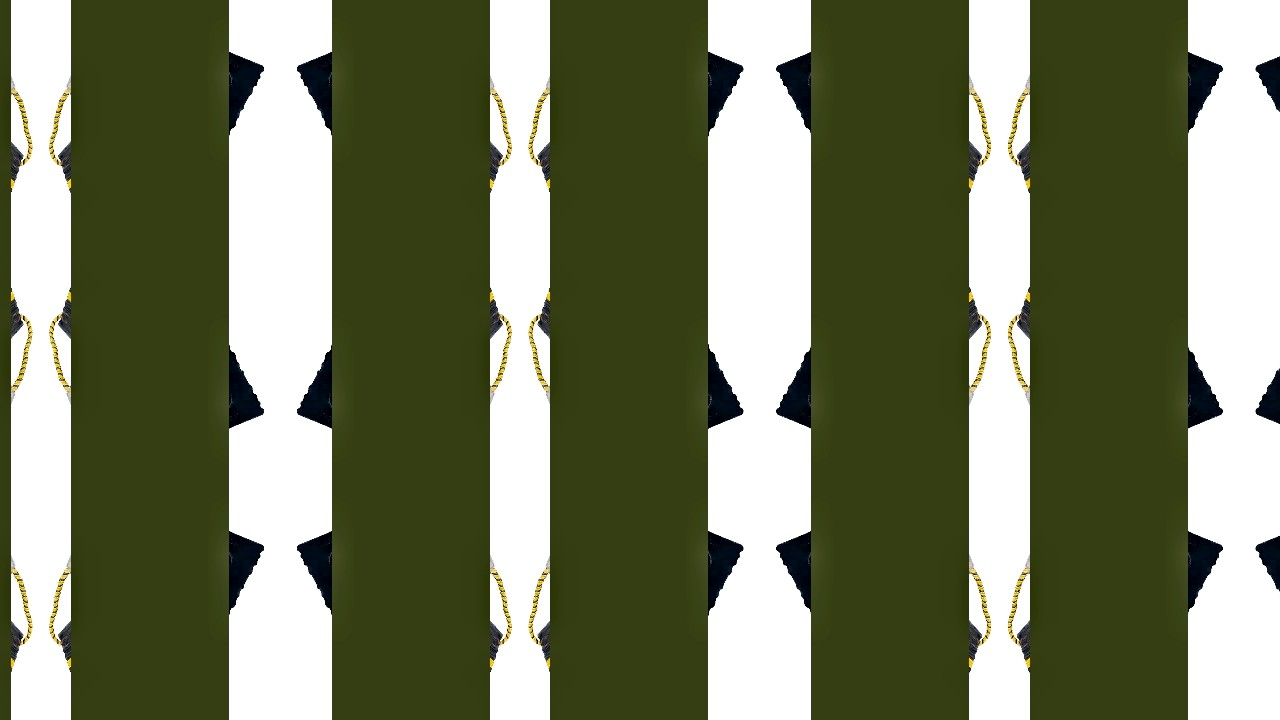chock: (56, 26, 265, 217), (295, 26, 504, 217), (536, 26, 745, 217), (775, 26, 984, 217), (1016, 26, 1225, 217), (56, 263, 265, 454), (295, 263, 504, 454), (536, 263, 745, 454), (775, 263, 984, 454), (1016, 263, 1225, 454), (56, 506, 265, 697), (295, 506, 504, 697), (536, 506, 745, 697), (775, 506, 984, 697), (1016, 506, 1225, 697), (1255, 26, 1280, 217), (1255, 263, 1280, 454), (1255, 506, 1280, 697), (0, 26, 24, 217), (0, 263, 24, 454), (0, 506, 24, 697)
